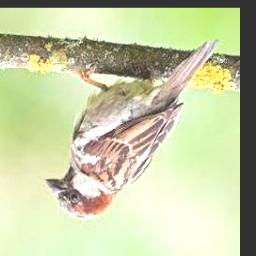Sparrow: (44, 41, 218, 220)
